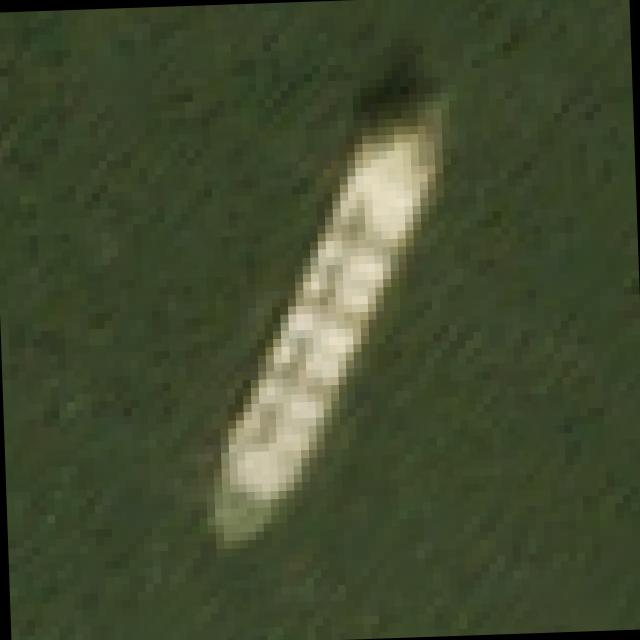ship: (153, 73, 499, 561)
